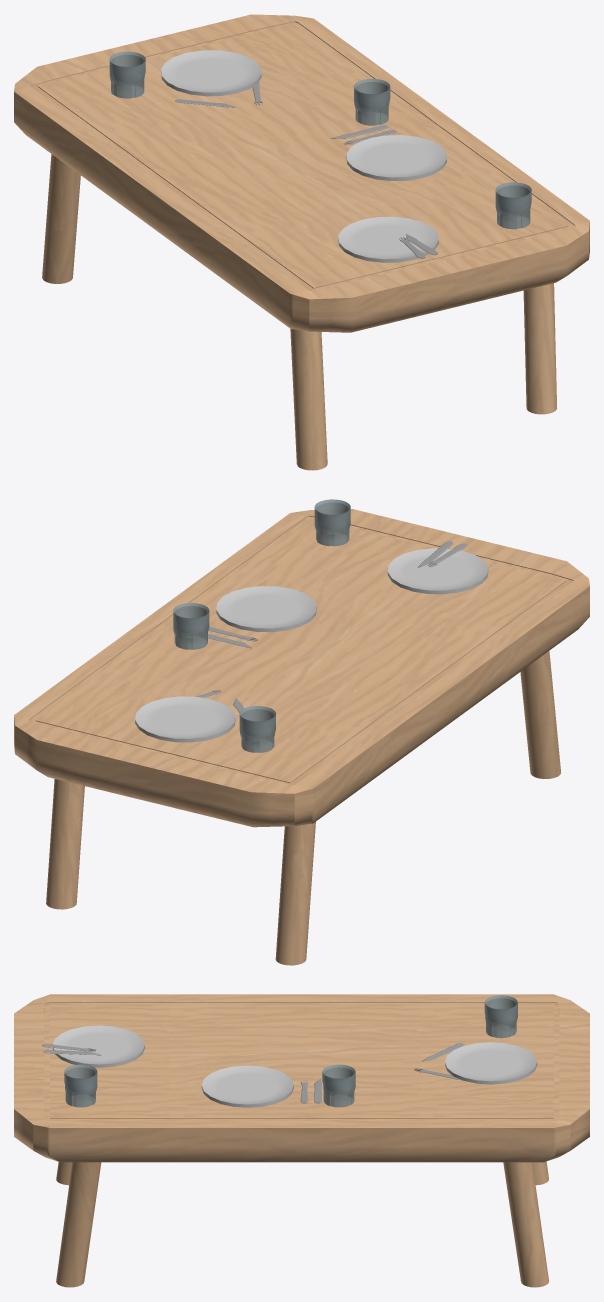
The model's file is Kitchen_Table.fbx.
3 renders of one model, top to bottom at view 1: azimuth 30°, elevation 25°; view 2: azimuth 150°, elevation 25°; view 3: azimuth 270°, elevation 25°, orthographic. The views are drawn at different scales.
Visible parts, largest first — view 1: pCube39; view 2: pCube39; view 3: pCube39.
Part boxes in pixels (<box>): pCube39: <box>14,14,589,470</box>; pCube39: <box>14,499,589,965</box>; pCube39: <box>14,994,589,1287</box>.
Bounding box in the file's own units: 2.36 × 1.65 × 4.3.
Materials: 4 (1 with a texture image).
